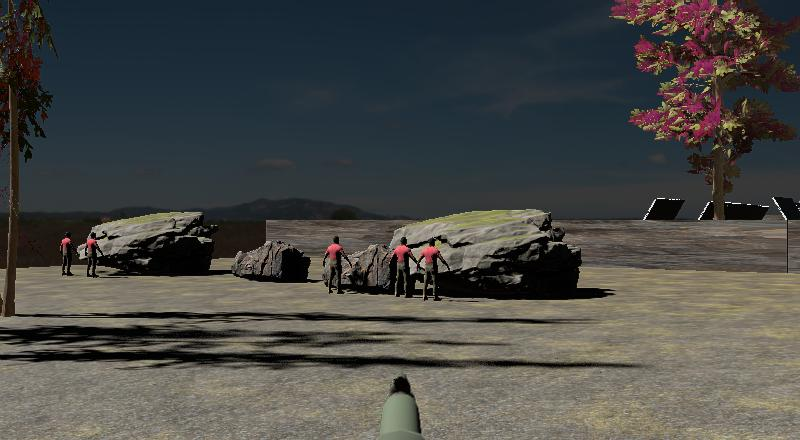Human: (417, 236, 451, 303), (321, 234, 353, 296), (388, 236, 419, 299), (84, 232, 103, 279), (59, 230, 76, 277)
